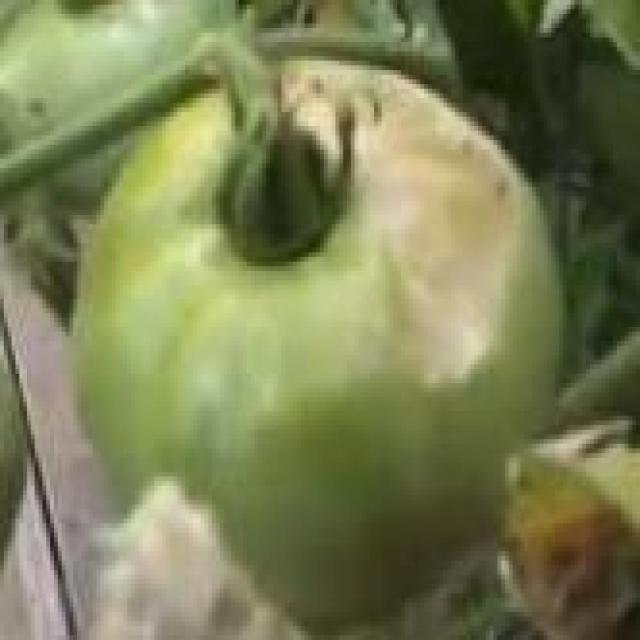Sunscald Fruit: (193, 51, 352, 282)
